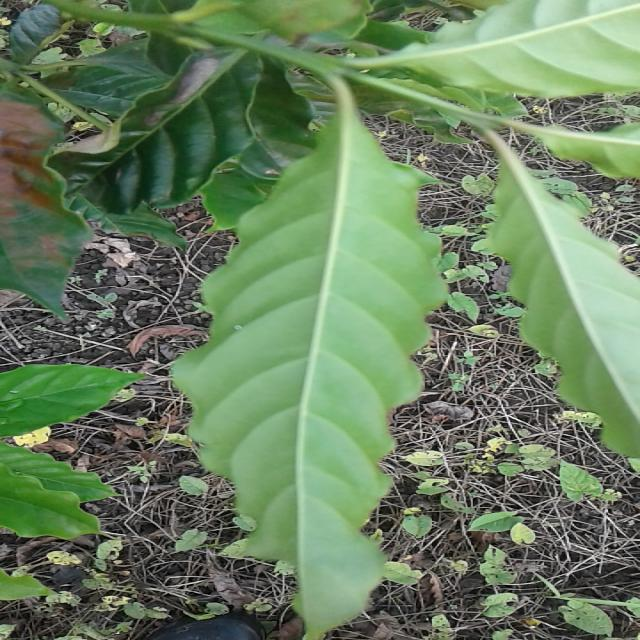Sanas: (168, 79, 448, 640)
